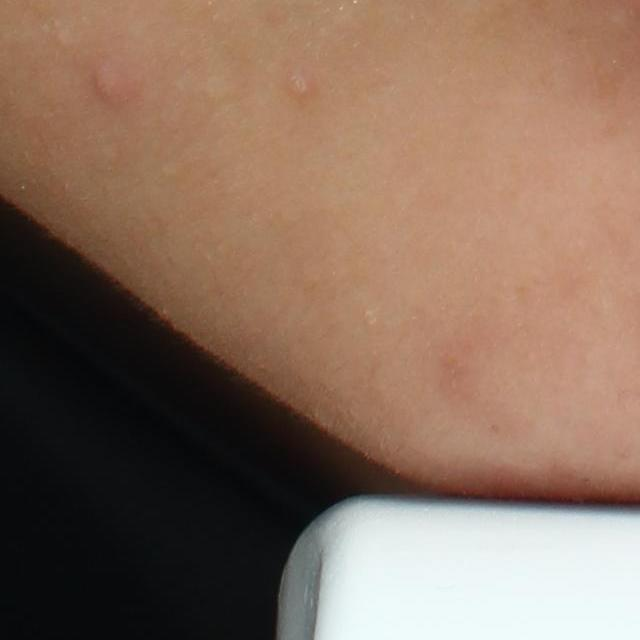comedo: (51, 30, 74, 53)
papule: (89, 64, 129, 104)
